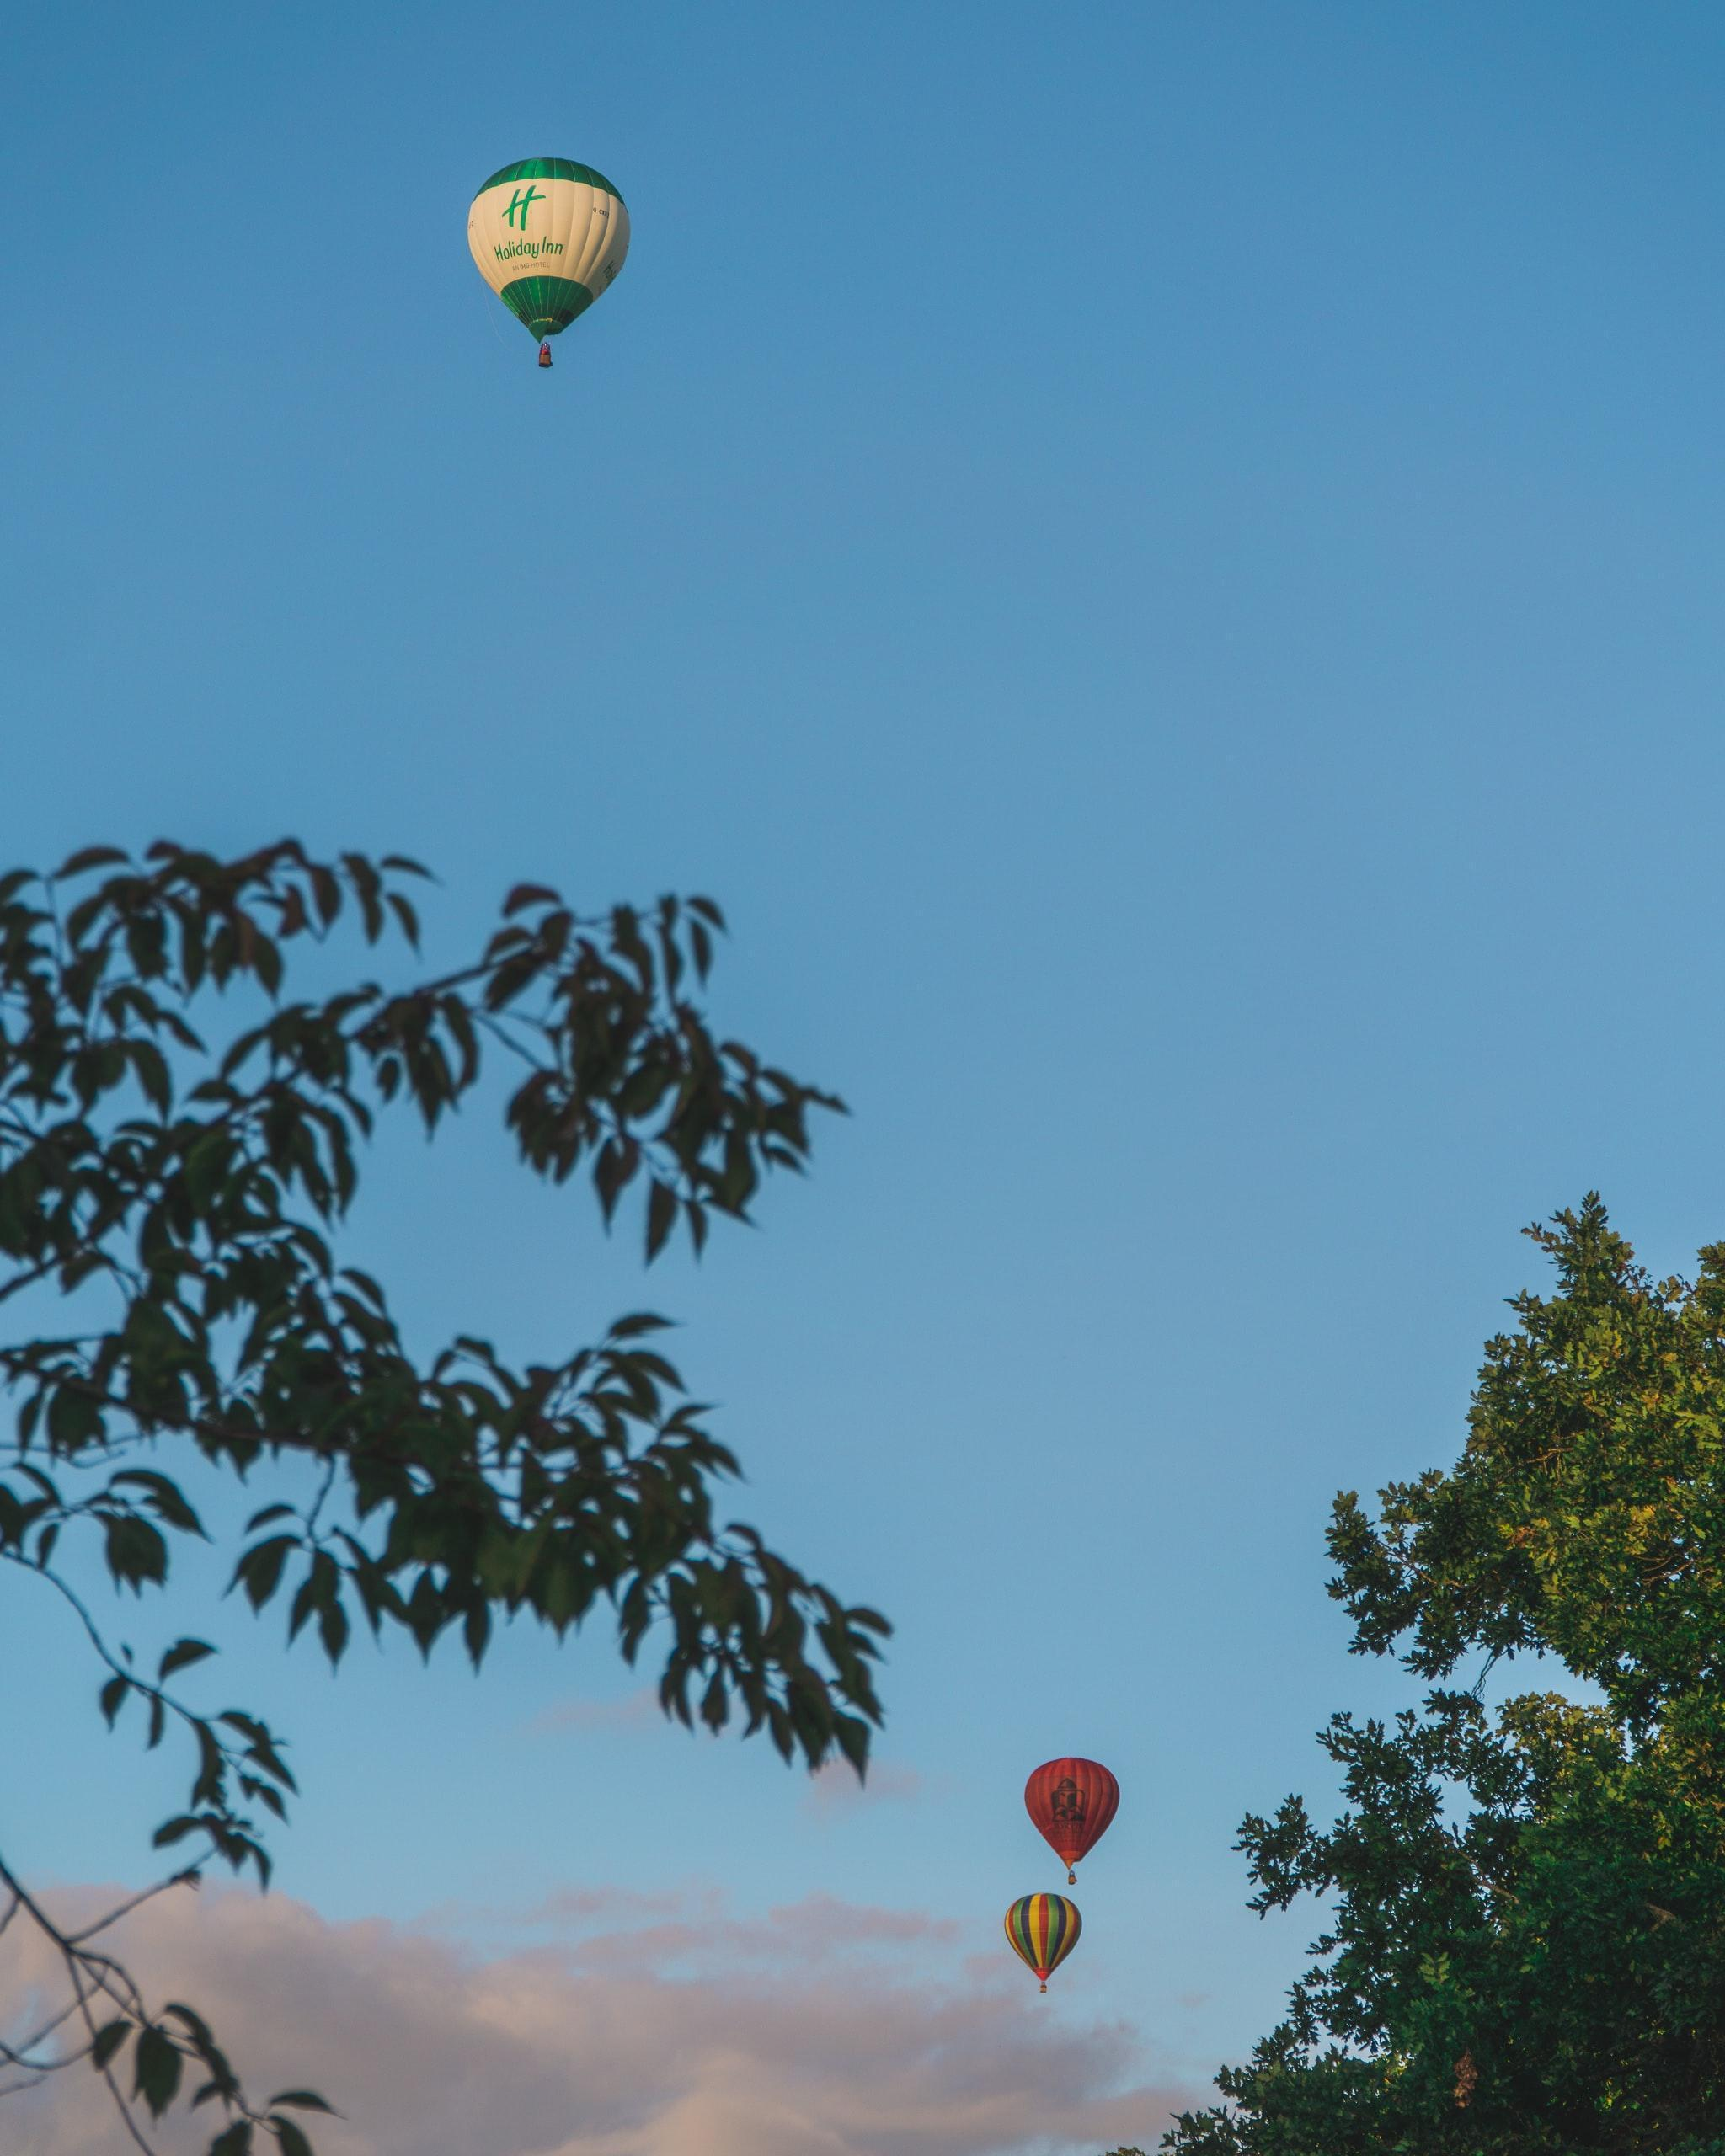hot air ballon: (466, 158, 628, 366), (1026, 1760, 1121, 1885), (1005, 1894, 1083, 1992)
